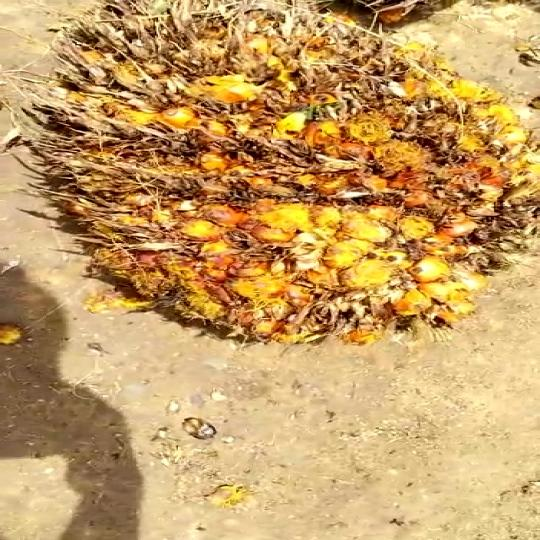terlalu masak: (0, 0, 540, 342)
